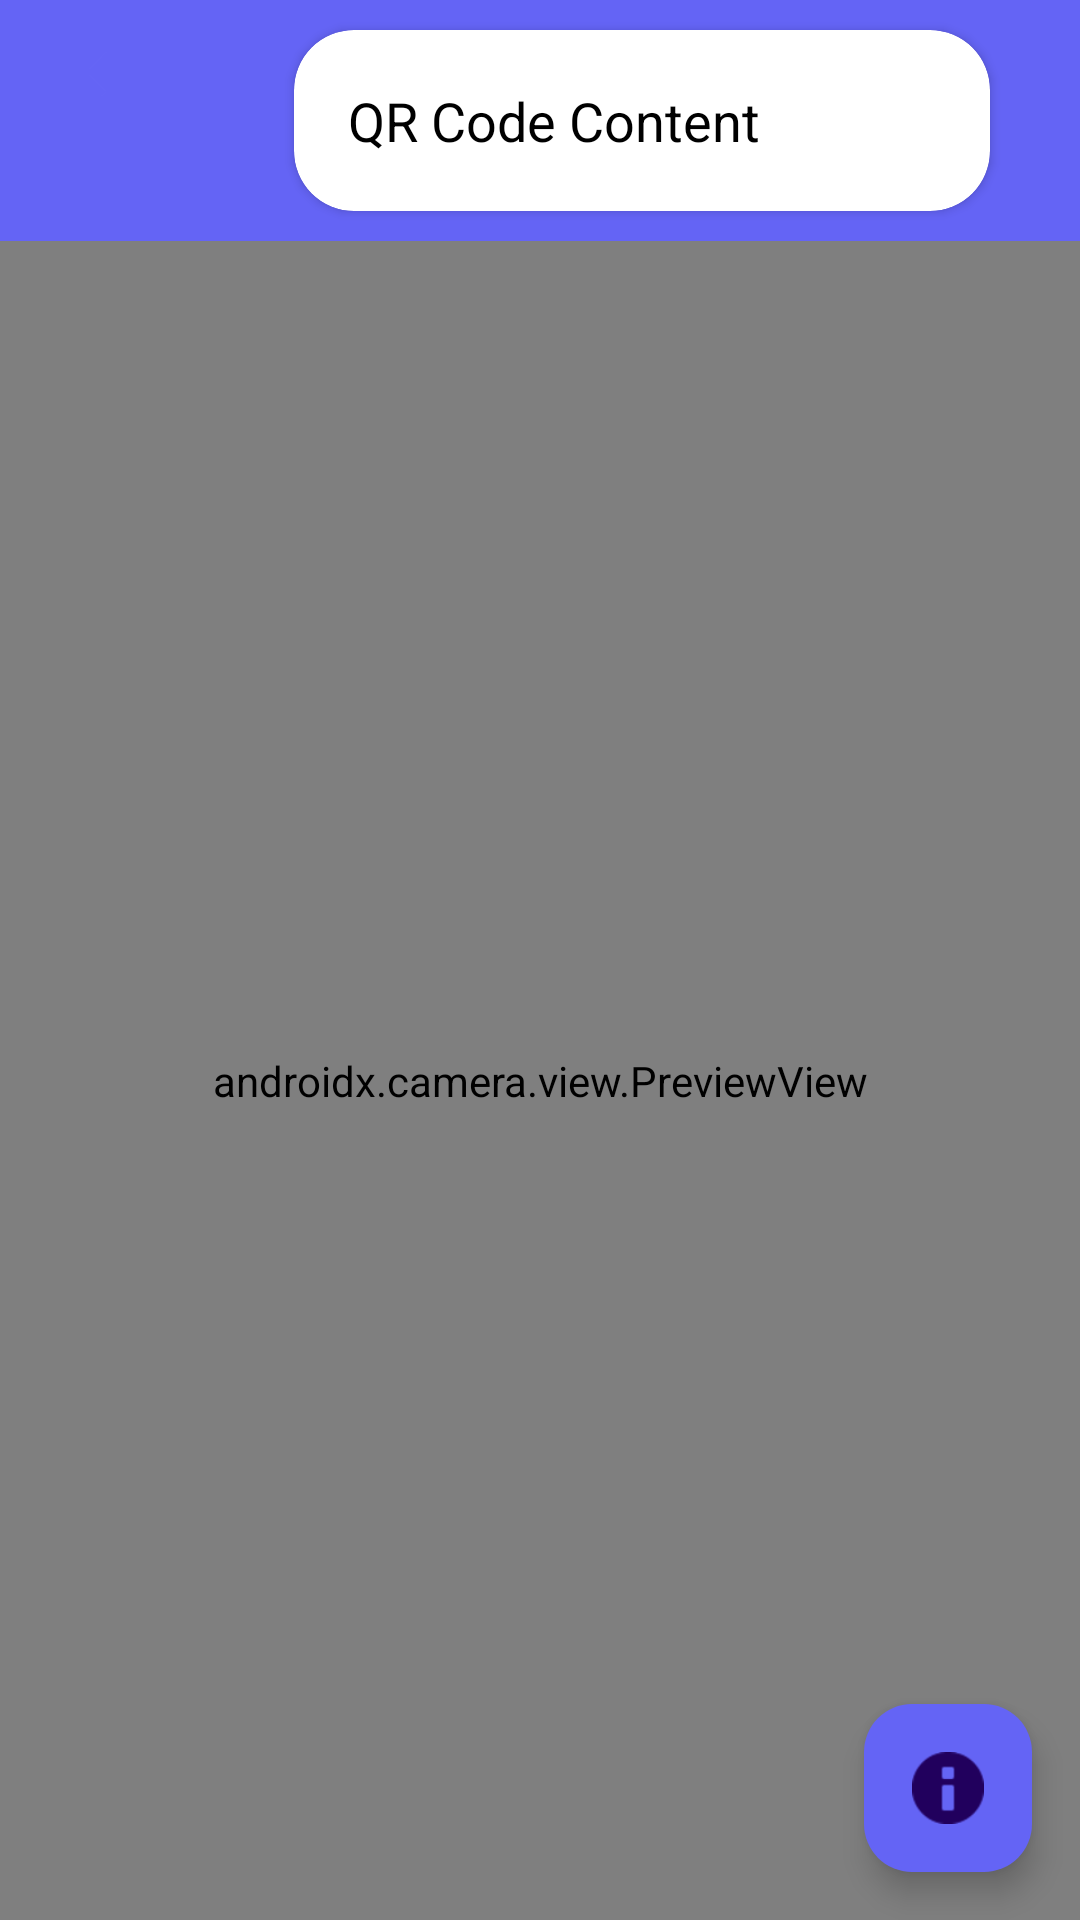

Where icons sit on this 1080 x 1920 app screen, as (x1, y1, x2, y2):
info: (864, 1704, 1032, 1872)
